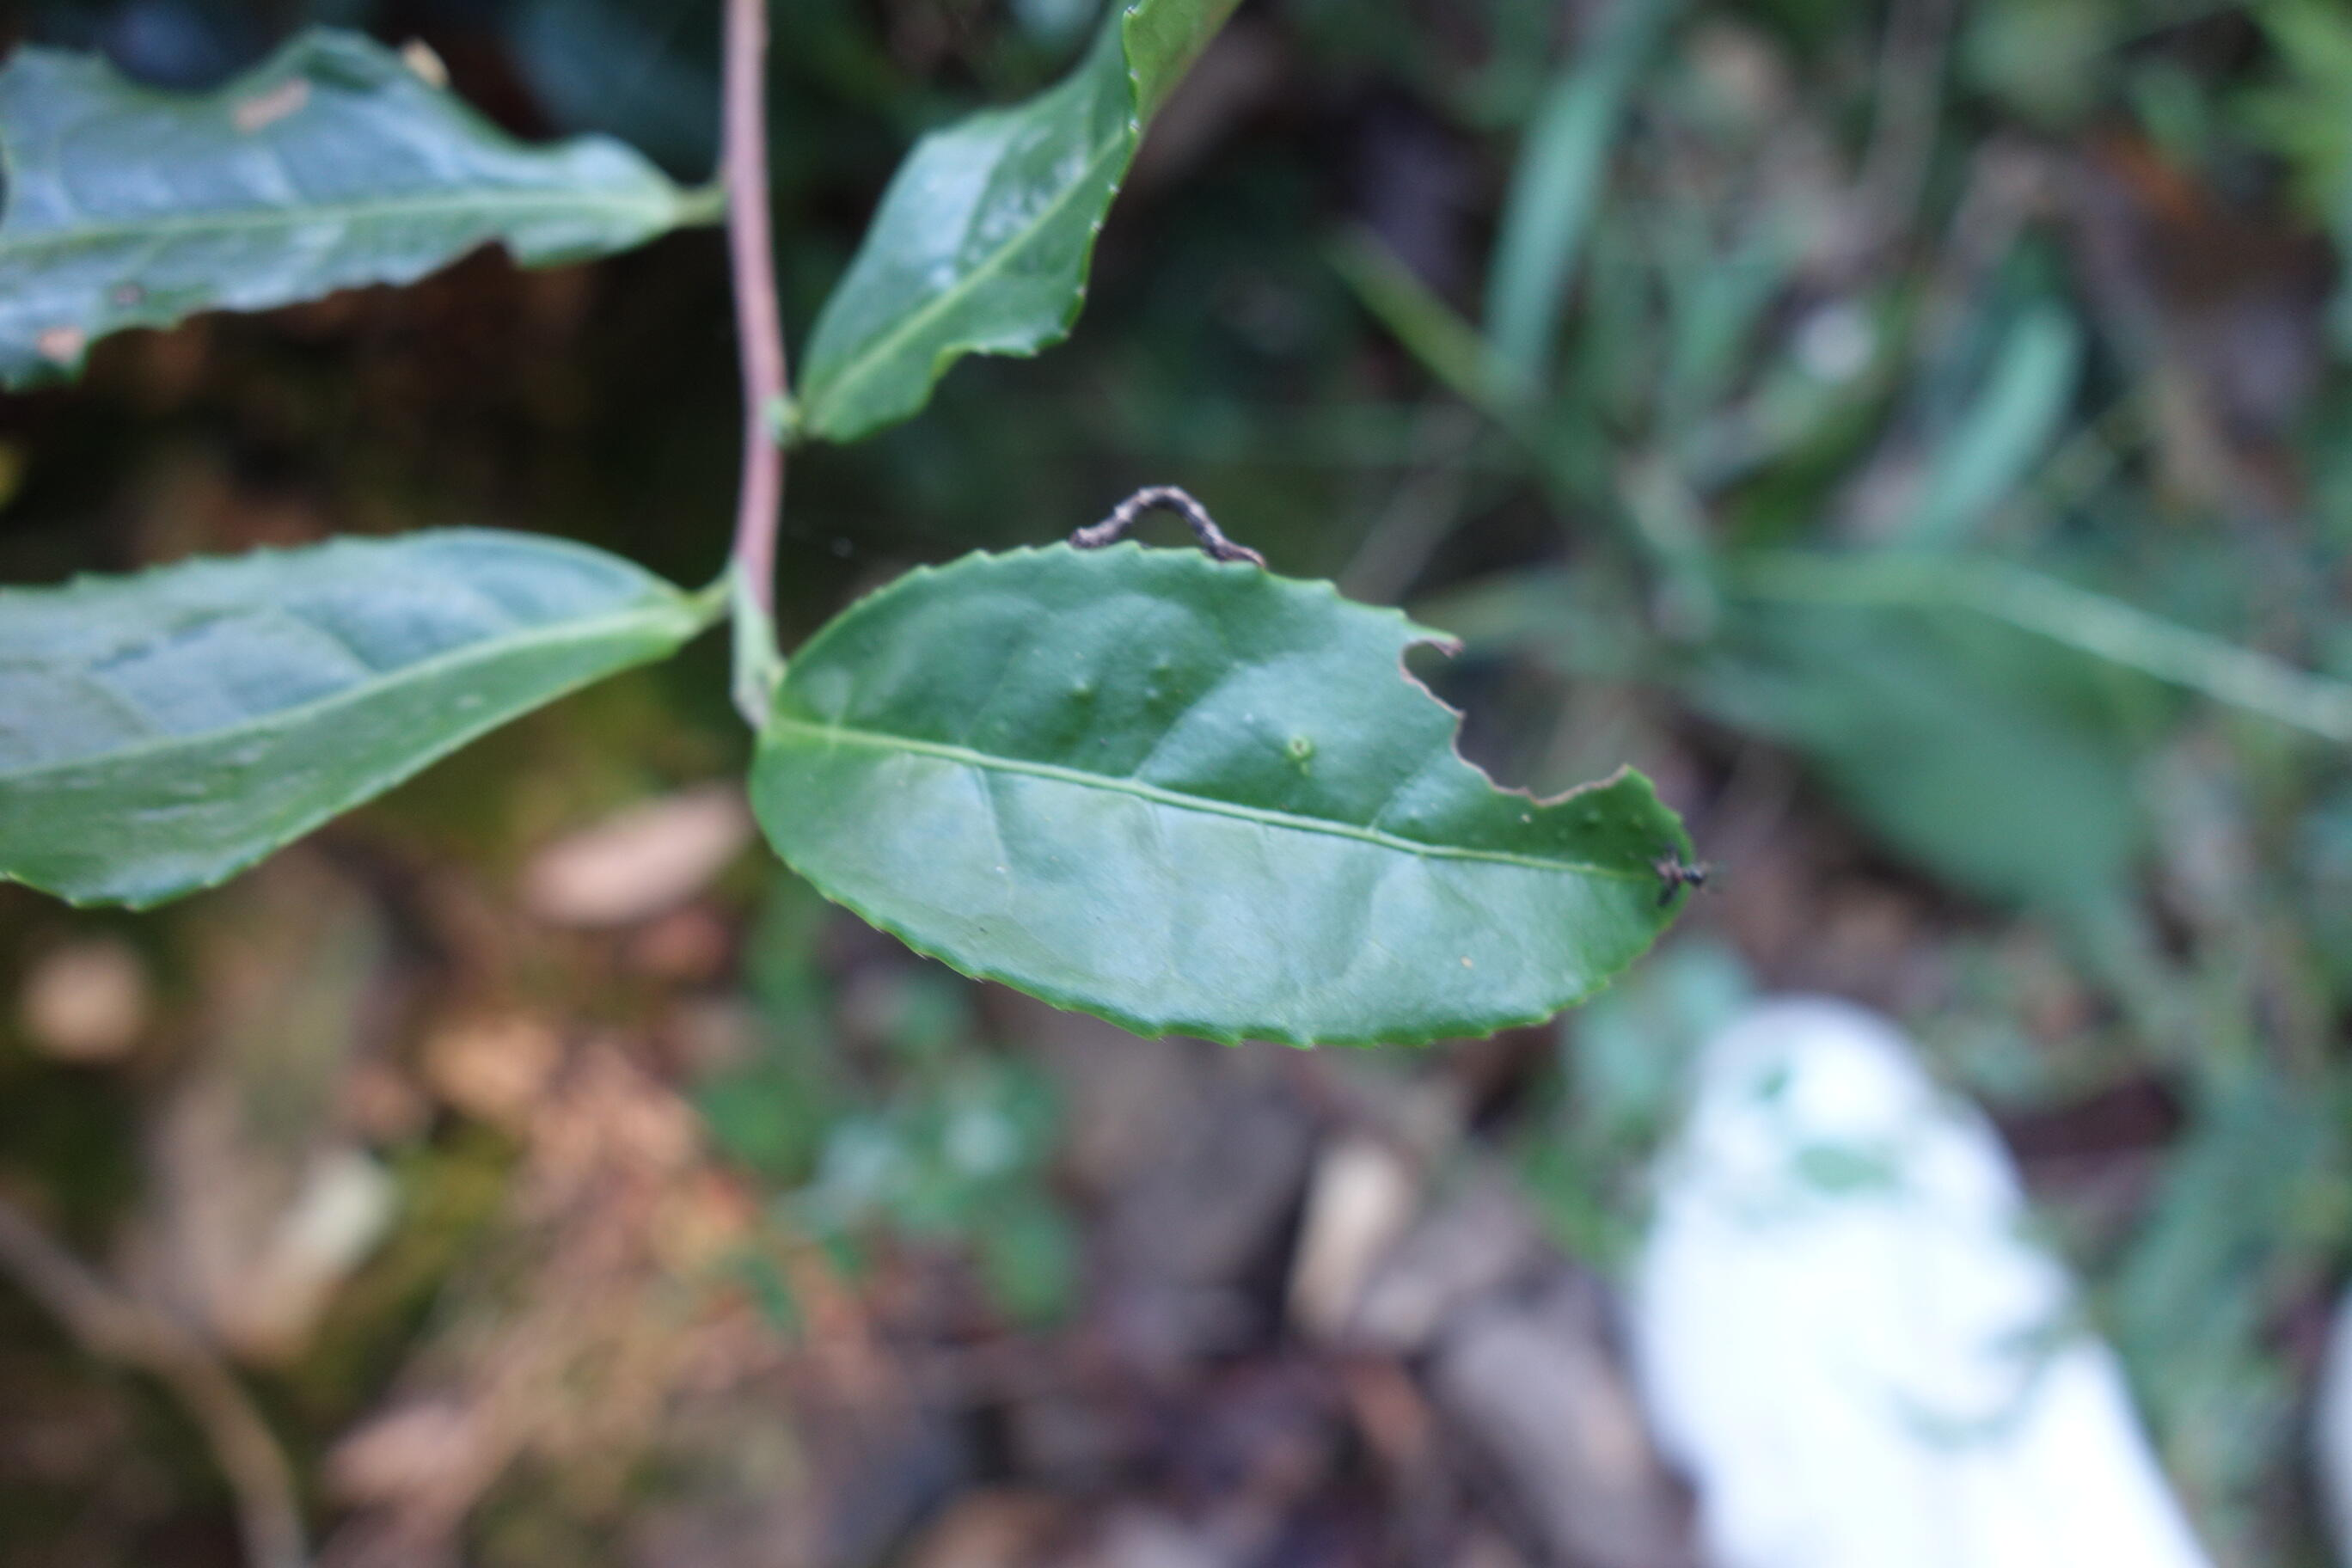chihuo_low: (731, 542, 1708, 1053)
